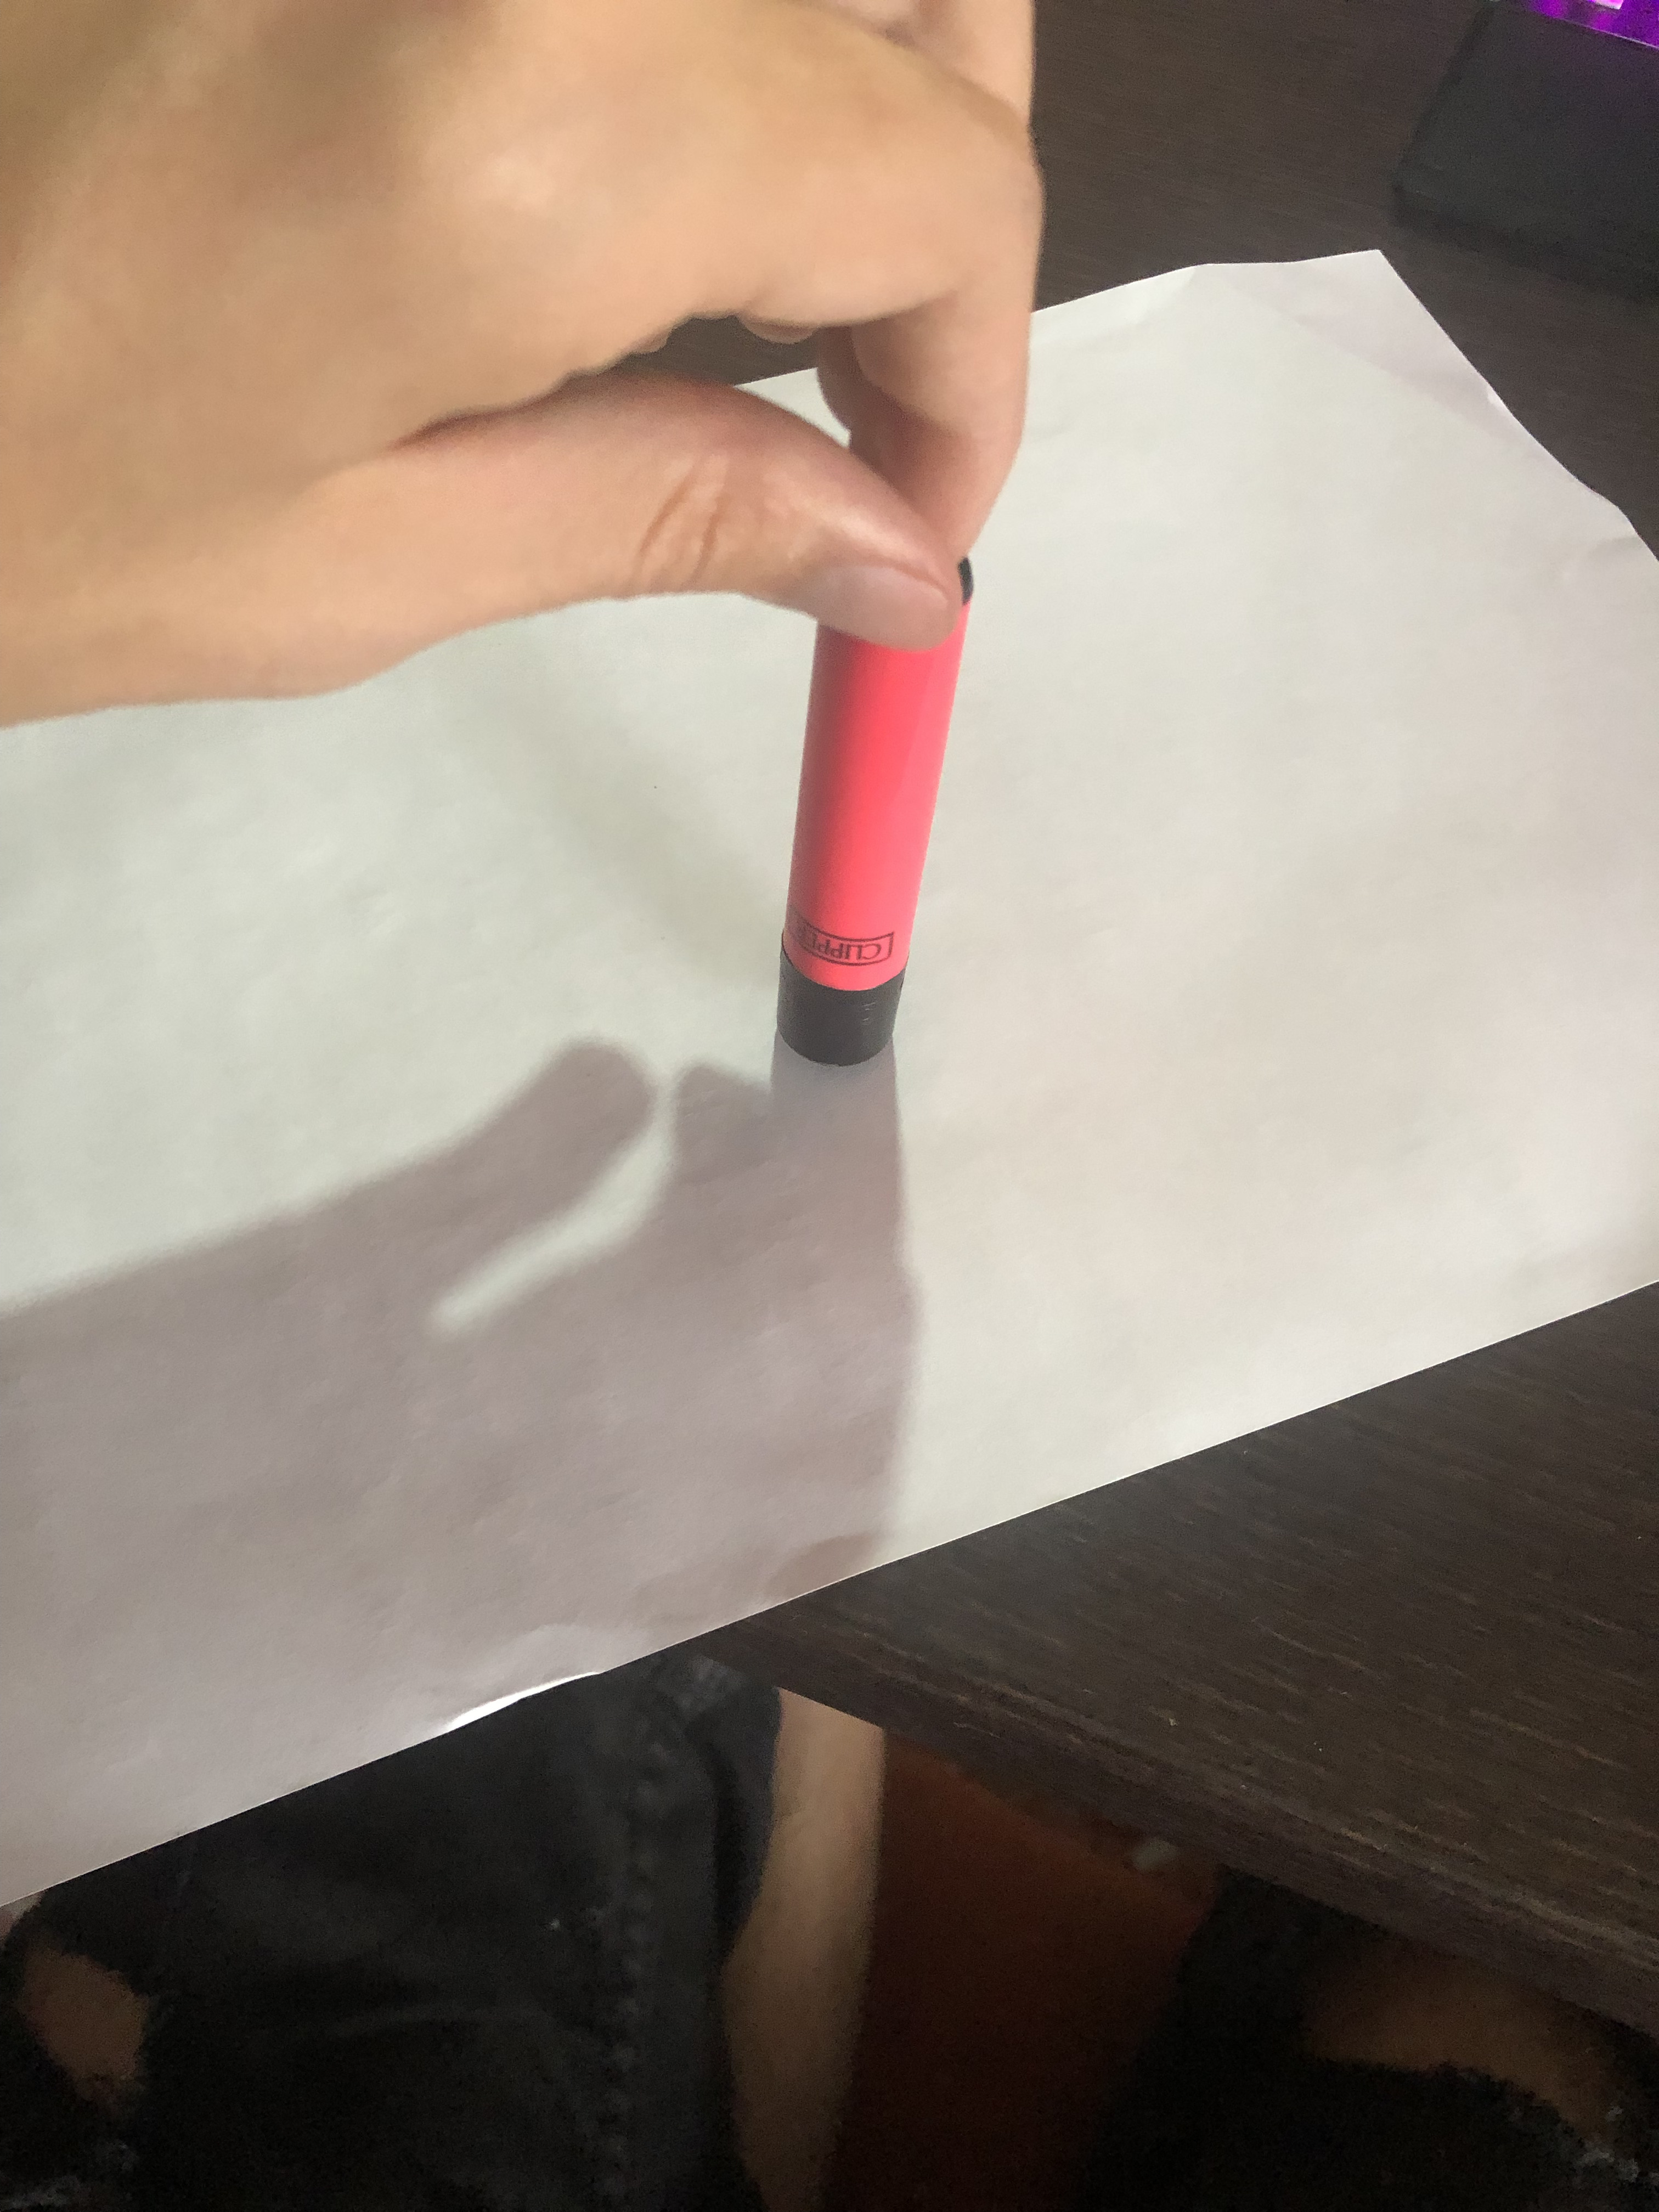Mechero: (758, 639, 974, 1078)
